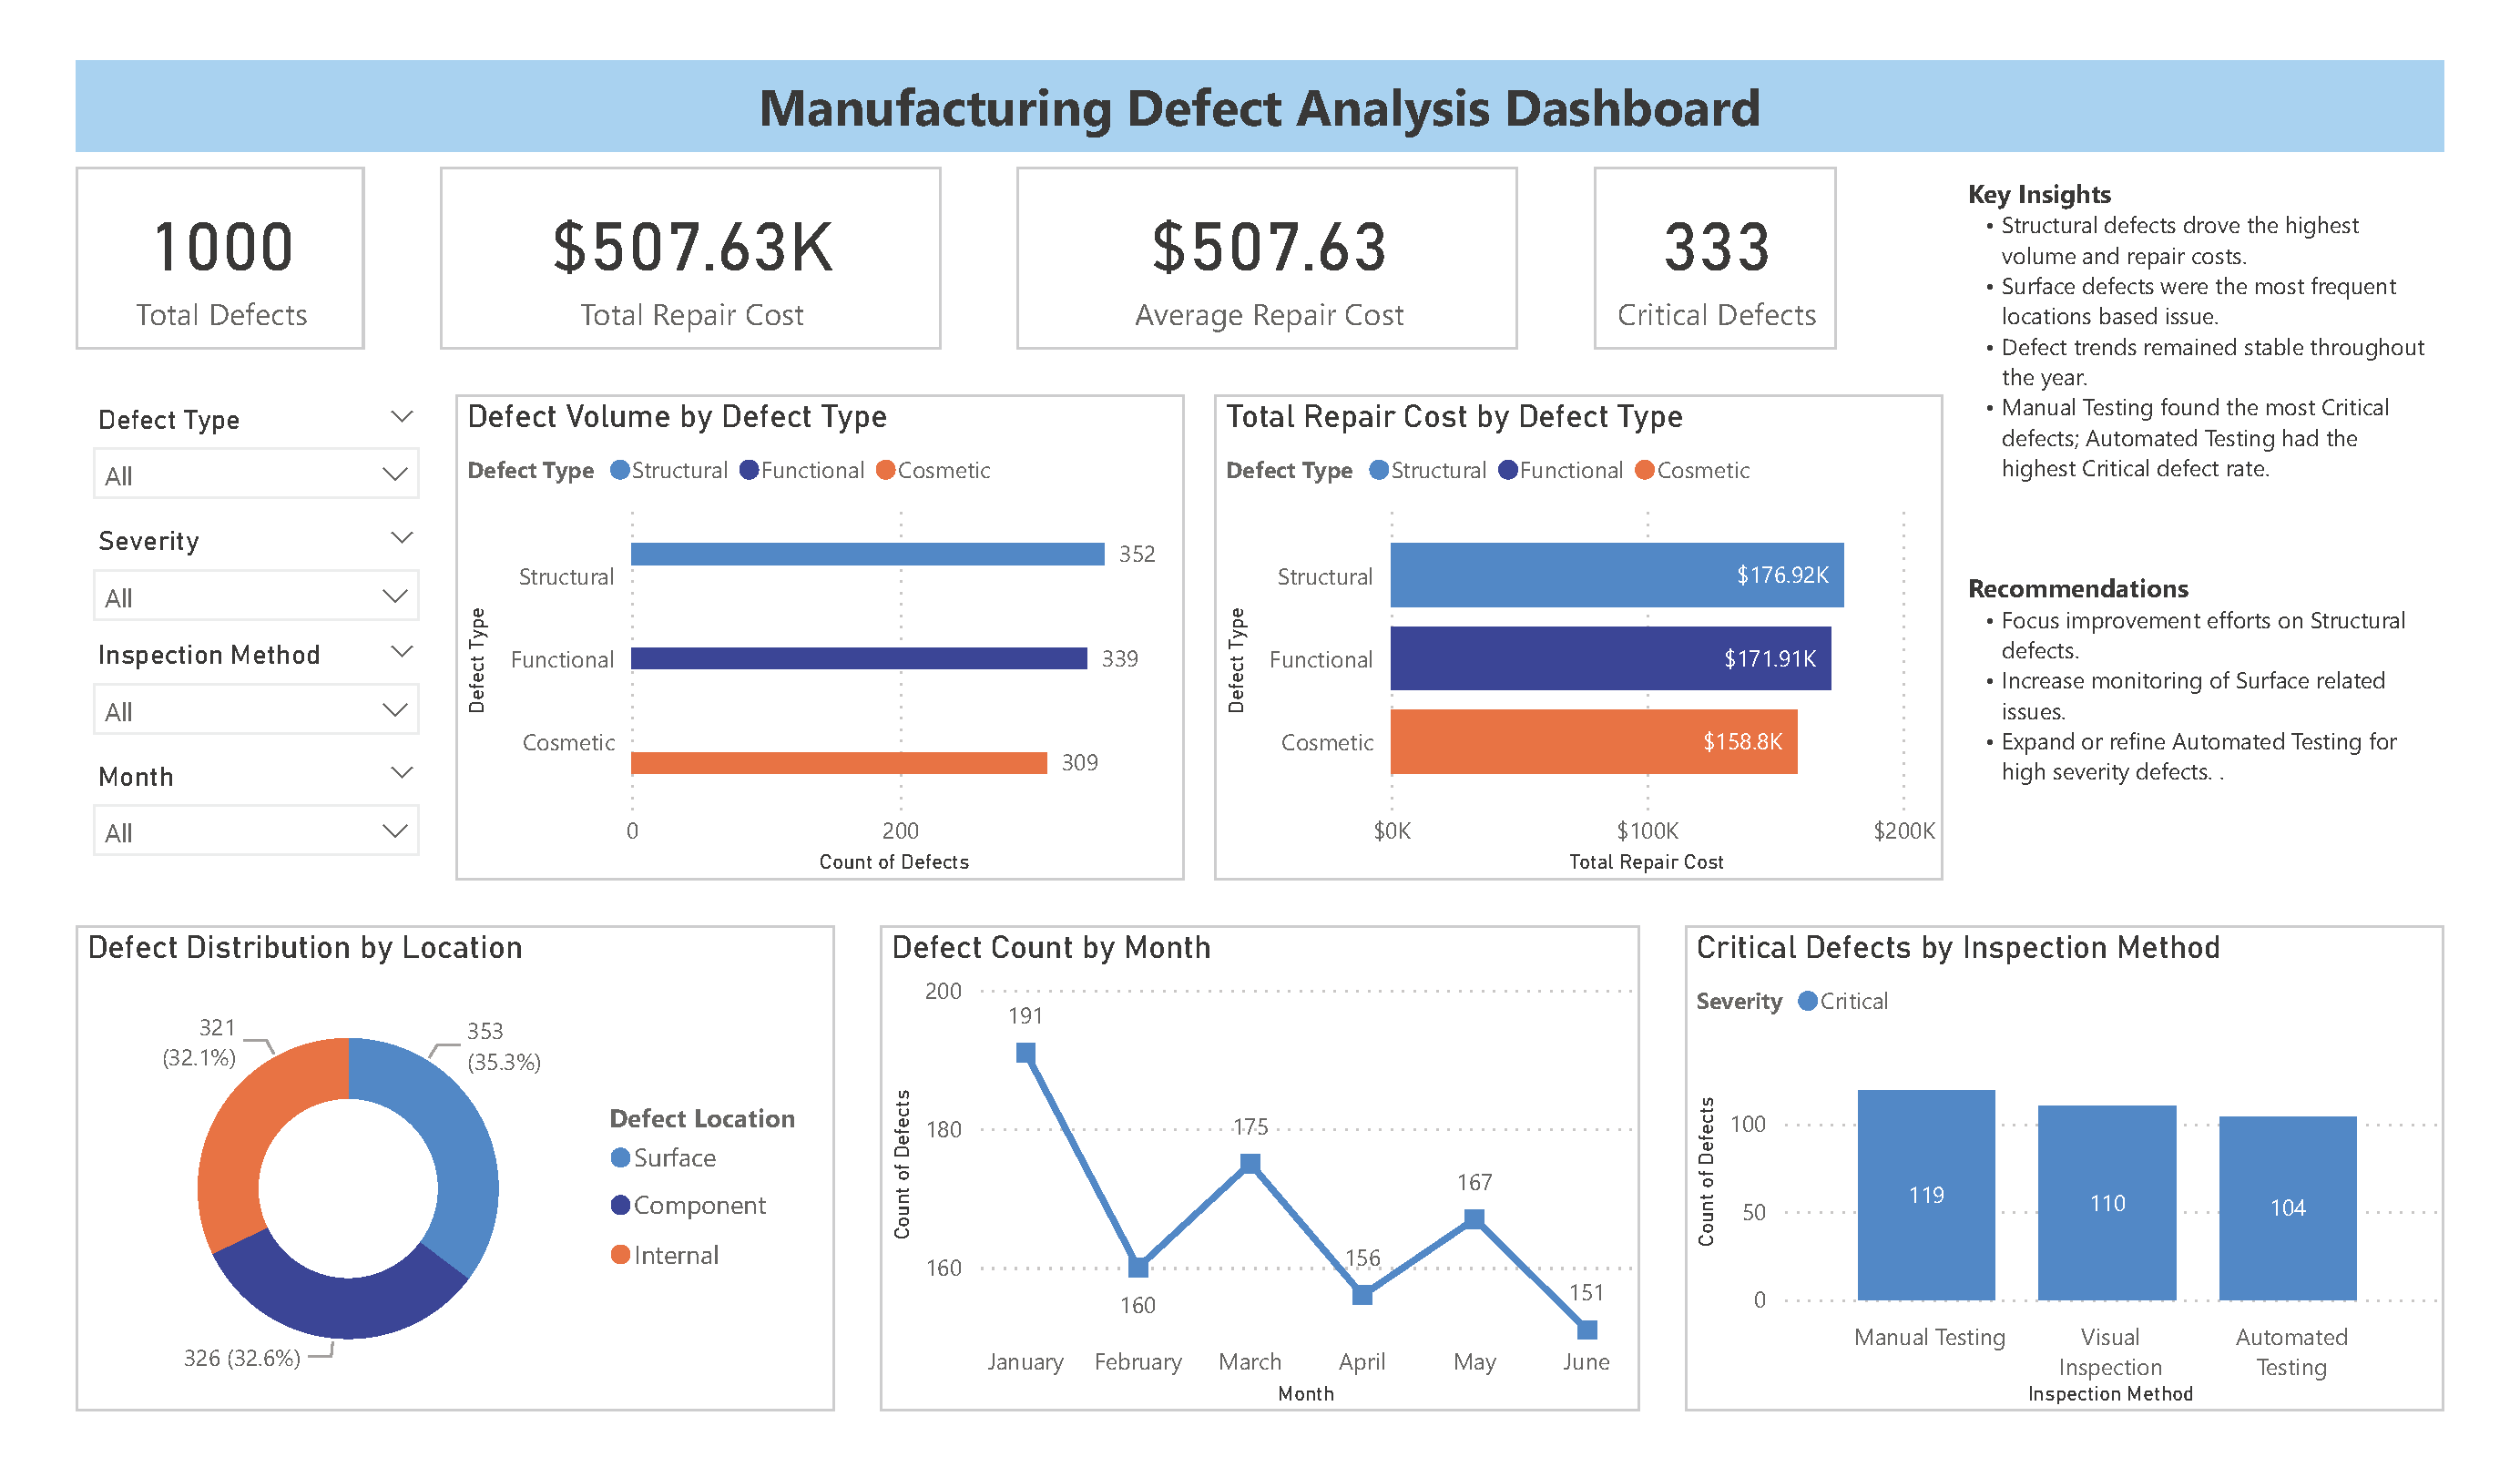

Layout of this report page (visuals, bound fields, positions):
{"tool":"powerbi","page":{"name":"Page 1","canvas":[1280,720],"ordinal":0},"visuals":[{"type":"clusteredBarChart","title":"Defect Volume by Defect Type","fields":{"Category":["defects_data_cleaned.defect_type"],"Y":["CountNonNull(defects_data_cleaned.defect_id)"],"Series":["defects_data_cleaned.defect_type"]},"box":[216,184,384,256],"z":0},{"type":"barChart","title":"Total Repair Cost by Defect Type","fields":{"Category":["defects_data_cleaned.defect_type"],"Y":["Sum(defects_data_cleaned.repair_cost)"],"Series":["defects_data_cleaned.defect_type"]},"box":[616,184,384,256],"z":1000},{"type":"donutChart","title":"Defect Distribution by Location","fields":{"Category":["defects_data_cleaned.defect_location"],"Y":["CountNonNull(defects_data_cleaned.defect_id)"]},"box":[16,464,400,256],"z":2000},{"type":"lineChart","title":"Defect Count by Month","fields":{"Category":["defects_data_cleaned.defect_date.Variation.Date Hierarchy.Month"],"Y":["CountNonNull(defects_data_cleaned.defect_id)"]},"box":[440,464,400,256],"z":3000},{"type":"clusteredColumnChart","title":"Critical Defects by Inspection Method","fields":{"Category":["defects_data_cleaned.inspection_method"],"Series":["defects_data_cleaned.severity"],"Y":["CountNonNull(defects_data_cleaned.defect_id)"]},"box":[864,464,400,256],"z":4000},{"type":"card","fields":{"Values":["Sum(defects_data_cleaned.repair_cost)"]},"box":[208,64,264,96],"z":5000},{"type":"card","fields":{"Values":["Avg(defects_data_cleaned.repair_cost)"]},"box":[512,64,264,96],"z":6000},{"type":"card","fields":{"Values":["CountNonNull(defects_data_cleaned.defect_id)"]},"box":[16,64,152,96],"z":7000},{"type":"card","fields":{"Values":["defects_data_cleaned.Critical Defects"]},"box":[816,64,128,96],"z":8000},{"type":"textbox","box":[16,8,1248,48],"z":9000},{"type":"slicer","fields":{"Values":["defects_data_cleaned.defect_type"]},"box":[15,184,192,72],"z":10000},{"type":"slicer","fields":{"Values":["defects_data_cleaned.severity"]},"box":[15,248,192,72],"z":11000},{"type":"slicer","fields":{"Values":["defects_data_cleaned.inspection_method"]},"box":[15,308,192,72],"z":12000},{"type":"slicer","fields":{"Values":["defects_data_cleaned.Month"]},"box":[15,372,192,72],"z":13000},{"type":"textbox","box":[1008,64,256,184],"z":13001},{"type":"textbox","box":[1008,272,256,152],"z":13002}]}

Visuals, with their boxes on the page's 1280x720 design canvas (x1, y1, x2, y2). These are canvas units, not pixel positions in the 2520x1457 screenshot, which may show the page scaled, cropped or inside an application window:
"Defect Volume by Defect Type" clusteredBarChart: (216, 184, 600, 440)
"Total Repair Cost by Defect Type" barChart: (616, 184, 1000, 440)
"Defect Distribution by Location" donutChart: (16, 464, 416, 720)
"Defect Count by Month" lineChart: (440, 464, 840, 720)
"Critical Defects by Inspection Method" clusteredColumnChart: (864, 464, 1264, 720)
card - Sum(defects_data_cleaned.repair_cost): (208, 64, 472, 160)
card - Avg(defects_data_cleaned.repair_cost): (512, 64, 776, 160)
card - CountNonNull(defects_data_cleaned.defect_id): (16, 64, 168, 160)
card - defects_data_cleaned.Critical Defects: (816, 64, 944, 160)
textbox: (16, 8, 1264, 56)
slicer - defects_data_cleaned.defect_type: (15, 184, 207, 256)
slicer - defects_data_cleaned.severity: (15, 248, 207, 320)
slicer - defects_data_cleaned.inspection_method: (15, 308, 207, 380)
slicer - defects_data_cleaned.Month: (15, 372, 207, 444)
textbox: (1008, 64, 1264, 248)
textbox: (1008, 272, 1264, 424)
